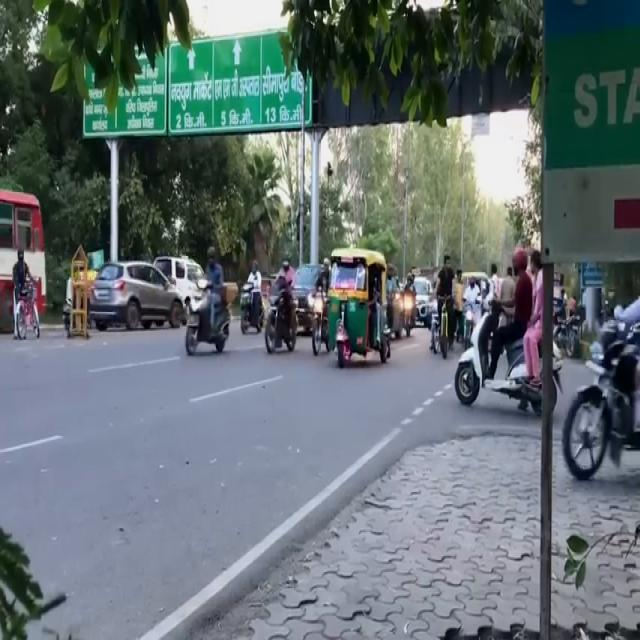MOTORCYCLE: (565, 324, 640, 495), (457, 291, 558, 414), (185, 277, 232, 355), (263, 292, 298, 348), (10, 279, 38, 341), (237, 277, 260, 333), (310, 283, 324, 356), (404, 285, 416, 344)
